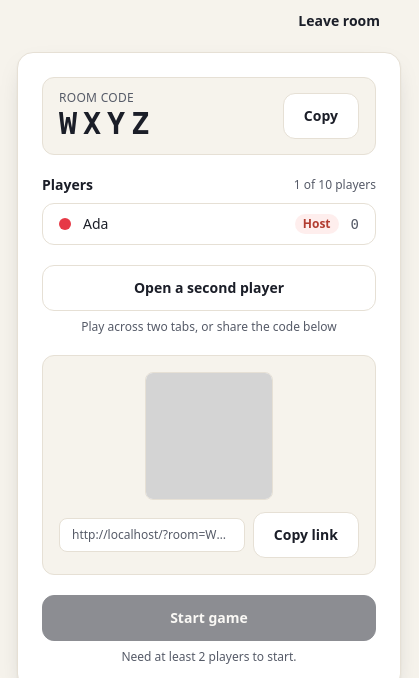
Test case: Lobby › shows the plain join link with its own Copy button
Expected: the text "http://localhost/?room=WXYZ" is shown, [59, 518, 245, 552]
Click the button "Copy link" at x=306, y=535, box [253, 512, 359, 558]
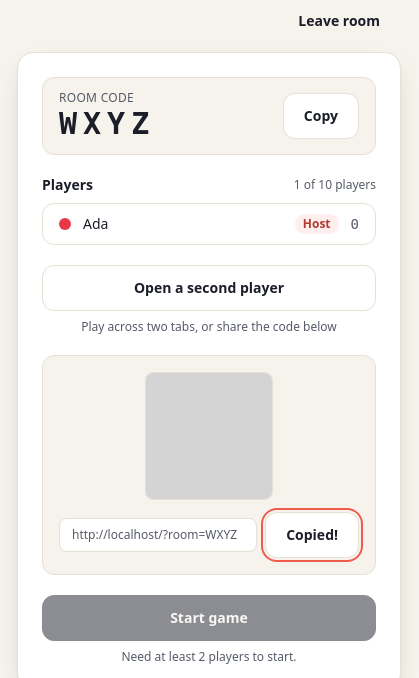
Now the button "Copied!" is shown, box [265, 512, 359, 558]
